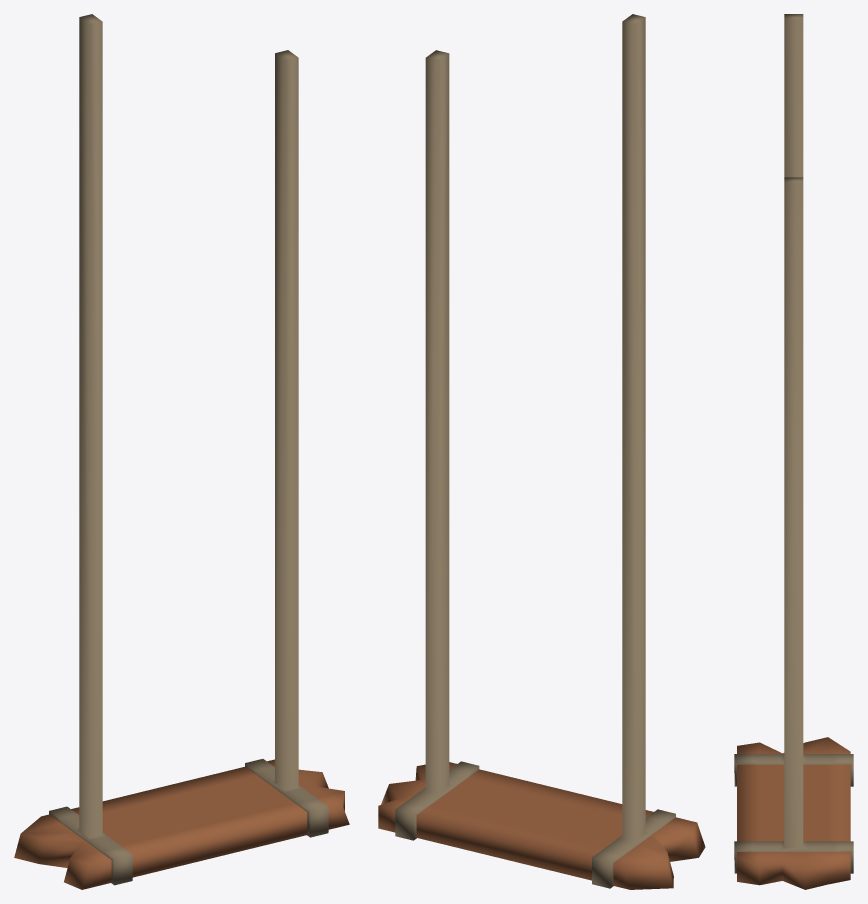
File: Swing.fbx
The picture shows the model from 3 angles, left to right: view 1: azimuth 30°, elevation 25°; view 2: azimuth 150°, elevation 25°; view 3: azimuth 270°, elevation 25°; orthographic projection. The views are drawn at different scales.
Parts seen in each view (by area): view 1: Swing; view 2: Swing; view 3: Swing.
Part boxes in pixels (x1,y1,x2,y2): Swing: (14,14,349,889); Swing: (378,14,705,889); Swing: (734,14,853,889).
Bounding box in the file's own units: 281 × 743 × 105.
